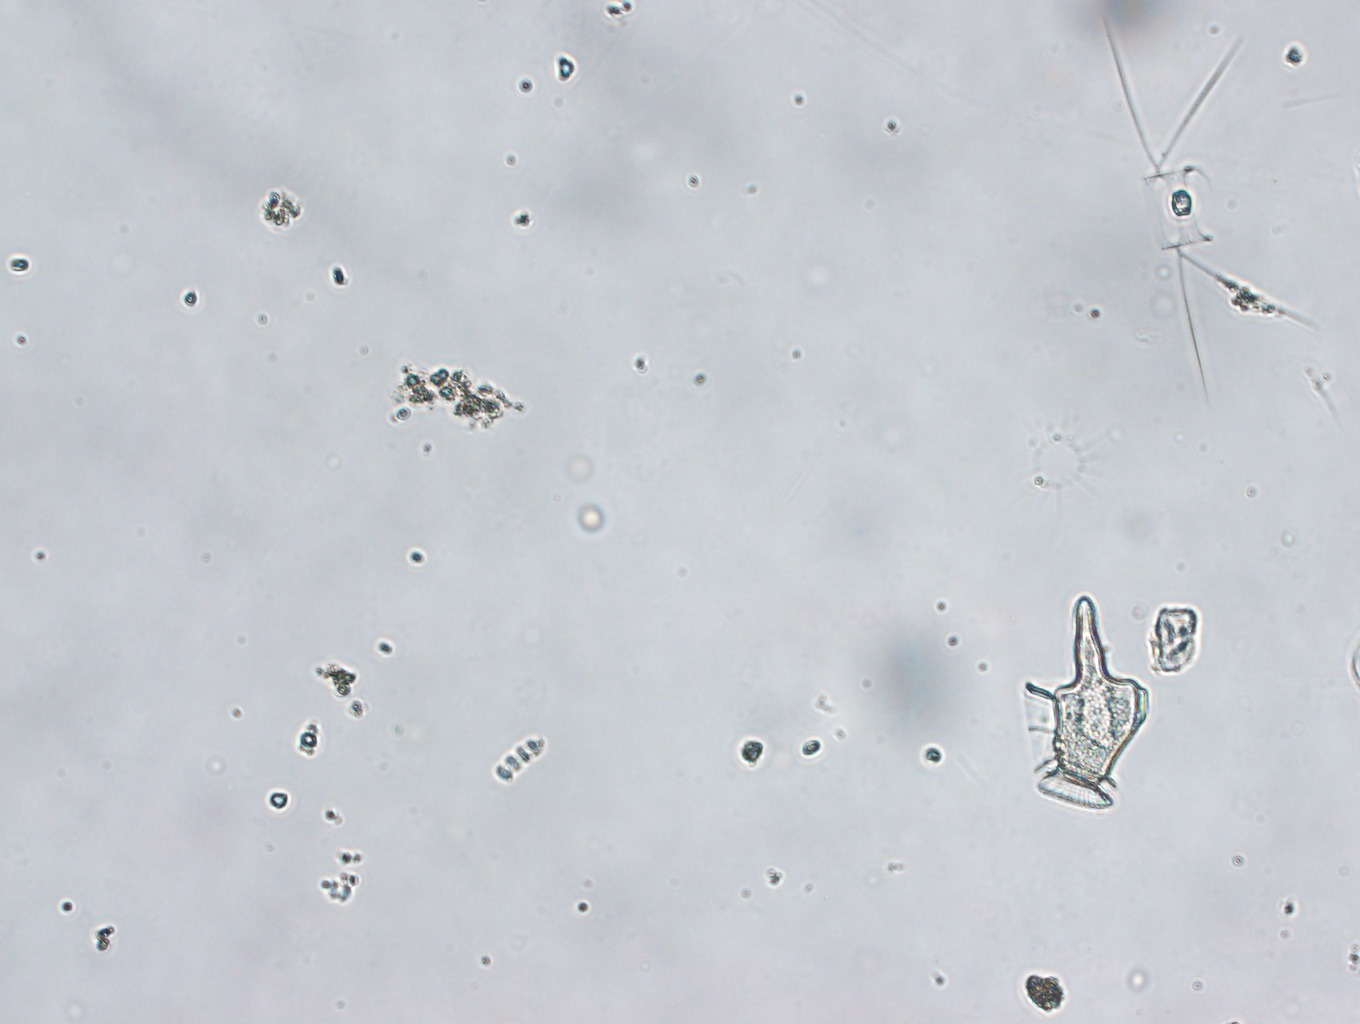chaetoceros: (1104, 17, 1322, 402)
dinophysis caudata: (1018, 589, 1156, 817)
